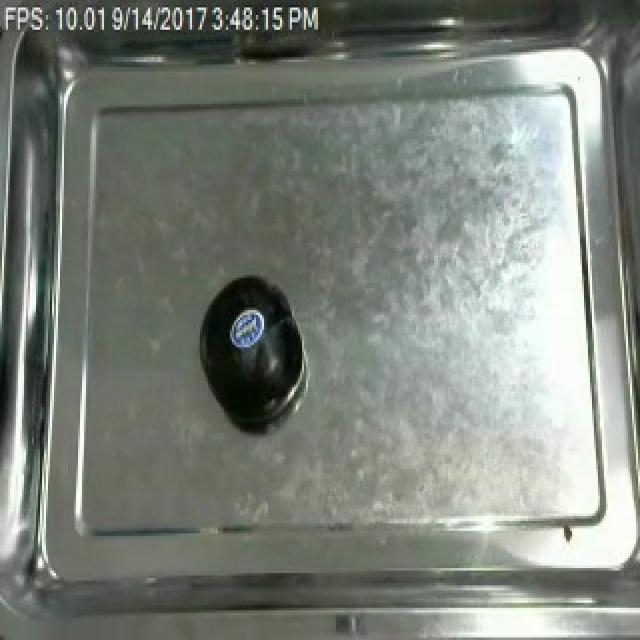Fruit: (192, 268, 306, 424)
